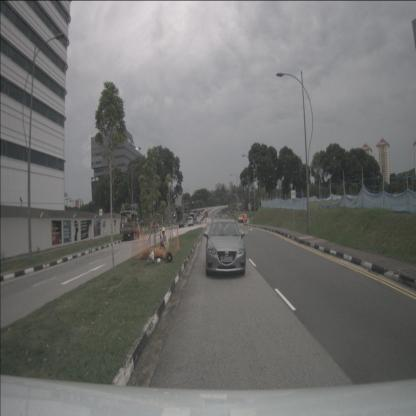vehicle-car: (205, 218, 246, 276), (238, 213, 247, 224), (187, 216, 194, 227), (178, 220, 184, 228)
vehicle-truck: (119, 210, 141, 242), (189, 212, 195, 225)
